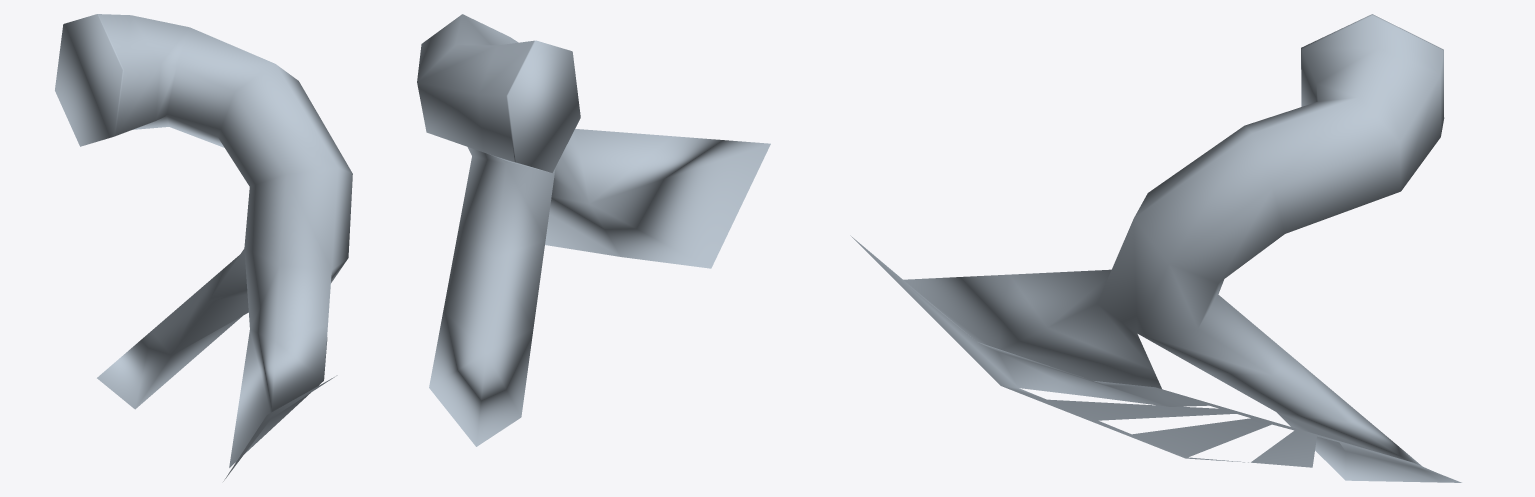
The model's file is ligament-of-head-of-femur-r.glb.
3 views of the same model, side by side, from view 1: azimuth 30°, elevation 25°; view 2: azimuth 150°, elevation 25°; view 3: azimuth 270°, elevation 25° (orthographic). The views are drawn at different scales.
Visible parts, largest first — view 1: Ligament of head of femur.r; view 2: Ligament of head of femur.r; view 3: Ligament of head of femur.r.
Part boxes in pixels (box(x1,y1,x2,y2)): Ligament of head of femur.r: box(55, 14, 352, 481); Ligament of head of femur.r: box(417, 14, 770, 446); Ligament of head of femur.r: box(850, 14, 1461, 482).
Size of the model in its own units: 0.0145 by 0.0253 by 0.0326.
